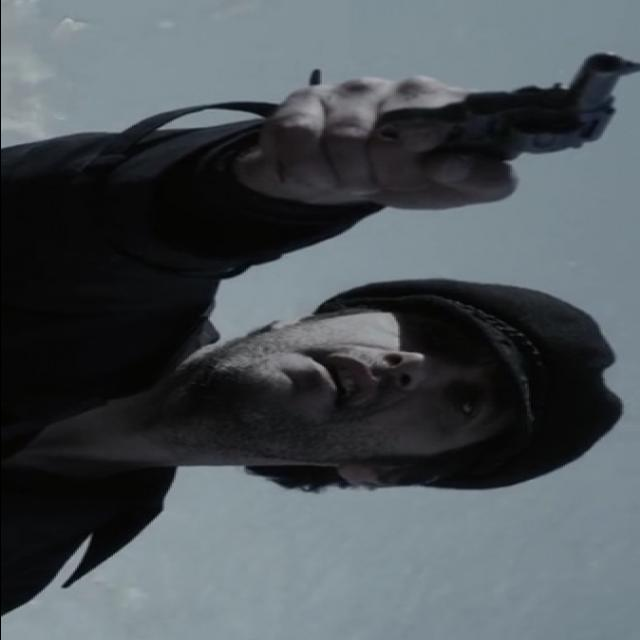weapons: (359, 46, 640, 202)
